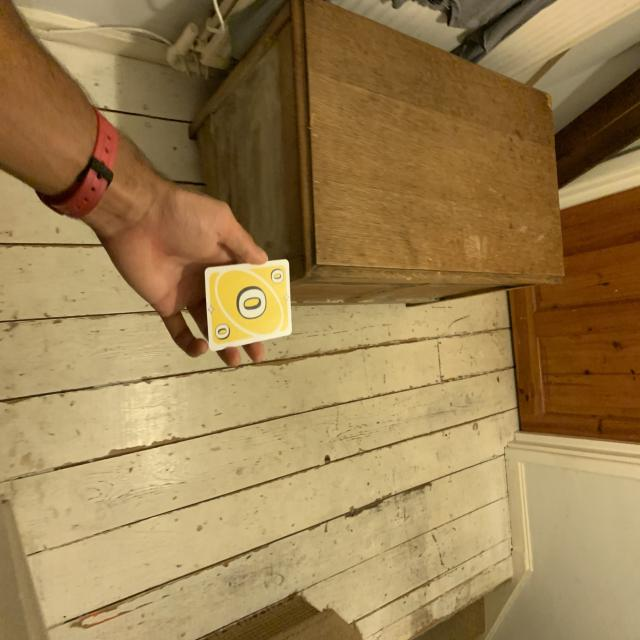lyellow-0: (267, 266, 286, 286)
